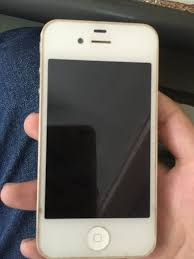iphone: (37, 20, 162, 256)
iphone4: (37, 20, 162, 256)
